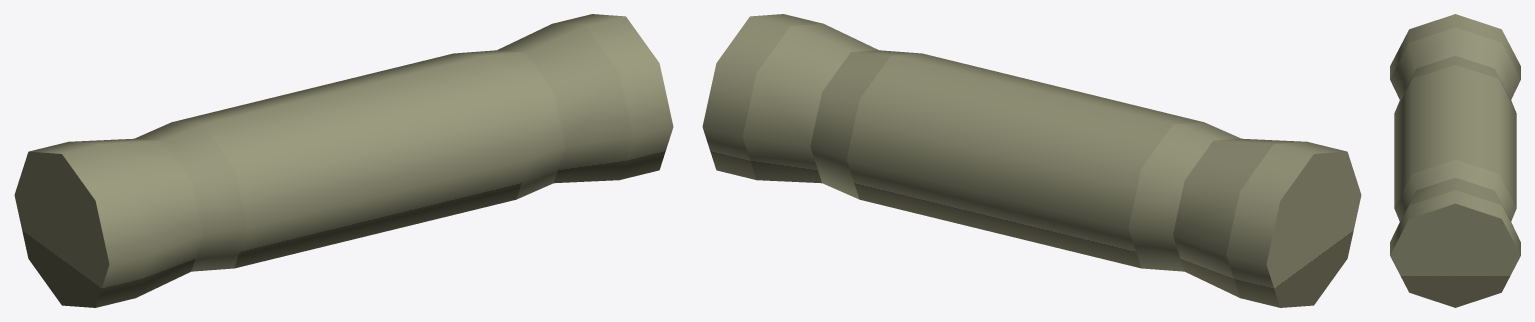
The model's file is bundle-tied-bundle.glb.
3 views of the same model, side by side, from view 1: azimuth 30°, elevation 25°; view 2: azimuth 150°, elevation 25°; view 3: azimuth 270°, elevation 25° (orthographic). The views are drawn at different scales.
Parts seen in each view (by area): view 1: bundle-tied-bundle runtime mesh; view 2: bundle-tied-bundle runtime mesh; view 3: bundle-tied-bundle runtime mesh.
Part boxes in pixels (x1,y1,x2,y2): bundle-tied-bundle runtime mesh: (14,14,673,307); bundle-tied-bundle runtime mesh: (702,14,1361,307); bundle-tied-bundle runtime mesh: (1390,14,1520,307).
Size of the model in its own units: 1.2 by 0.308 by 0.35.
1 material, 1 textured.
